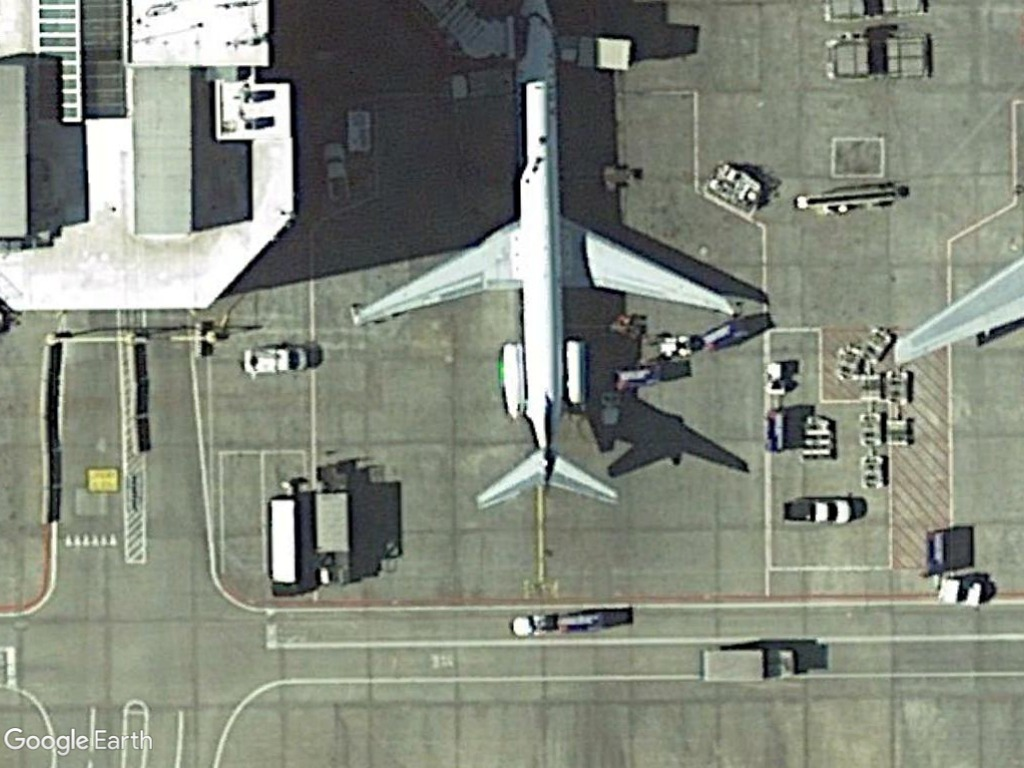chartered: (334, 6, 738, 515)
truck: (698, 642, 803, 687)
